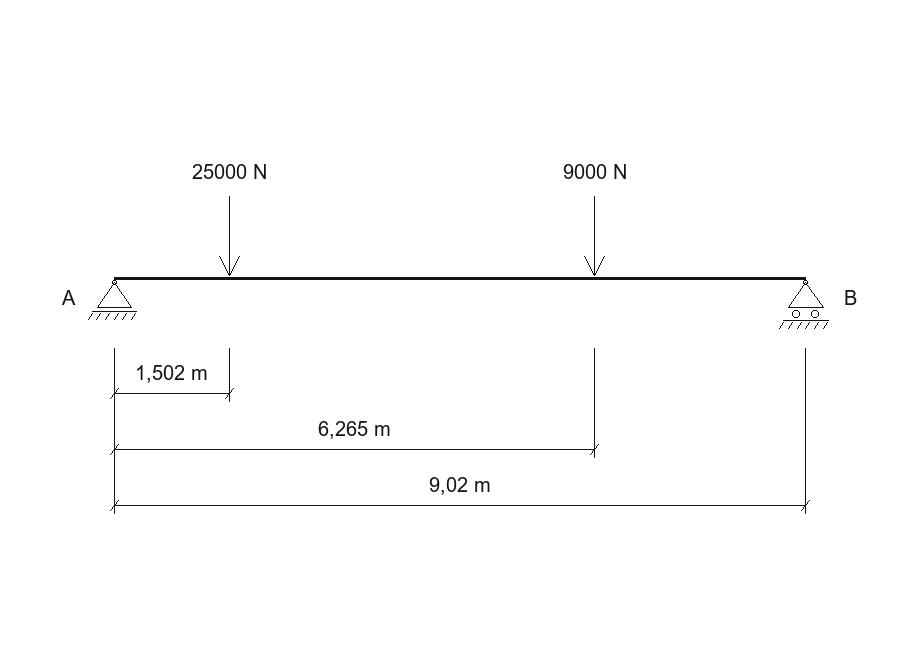pin_support: (88, 280, 137, 320)
point_load: (219, 196, 240, 276), (584, 196, 605, 276)
roller_support: (779, 280, 829, 329)
